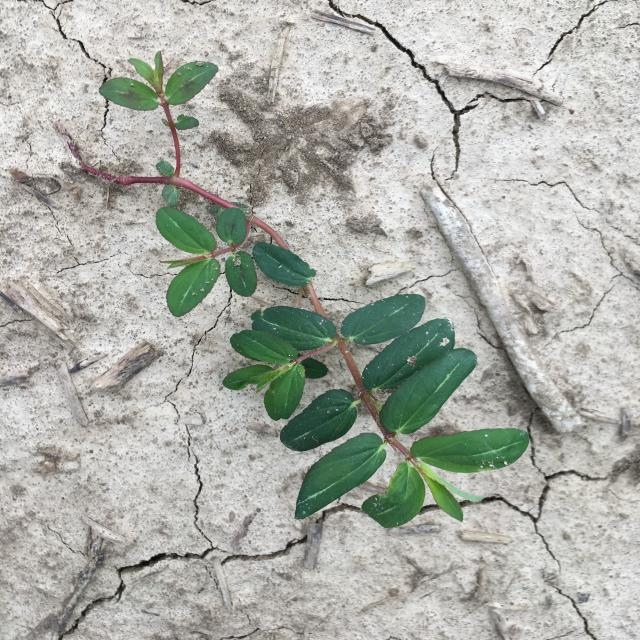SpottedSpurge: (98, 51, 530, 529)
